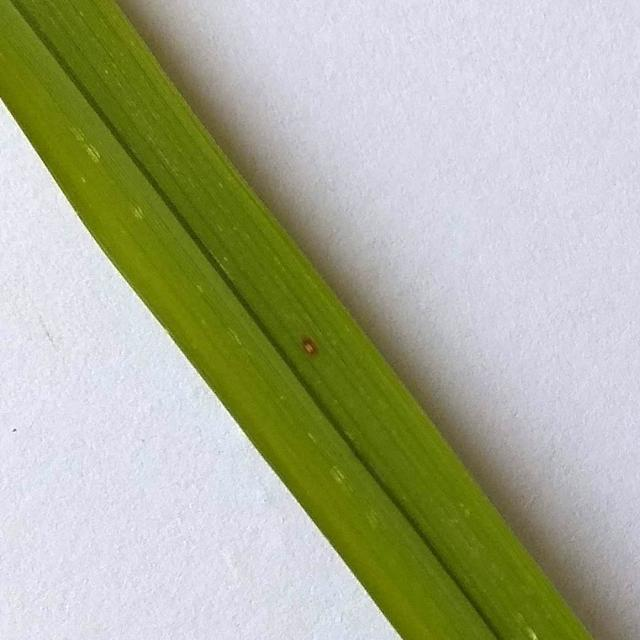Blast: (296, 337, 325, 357)
